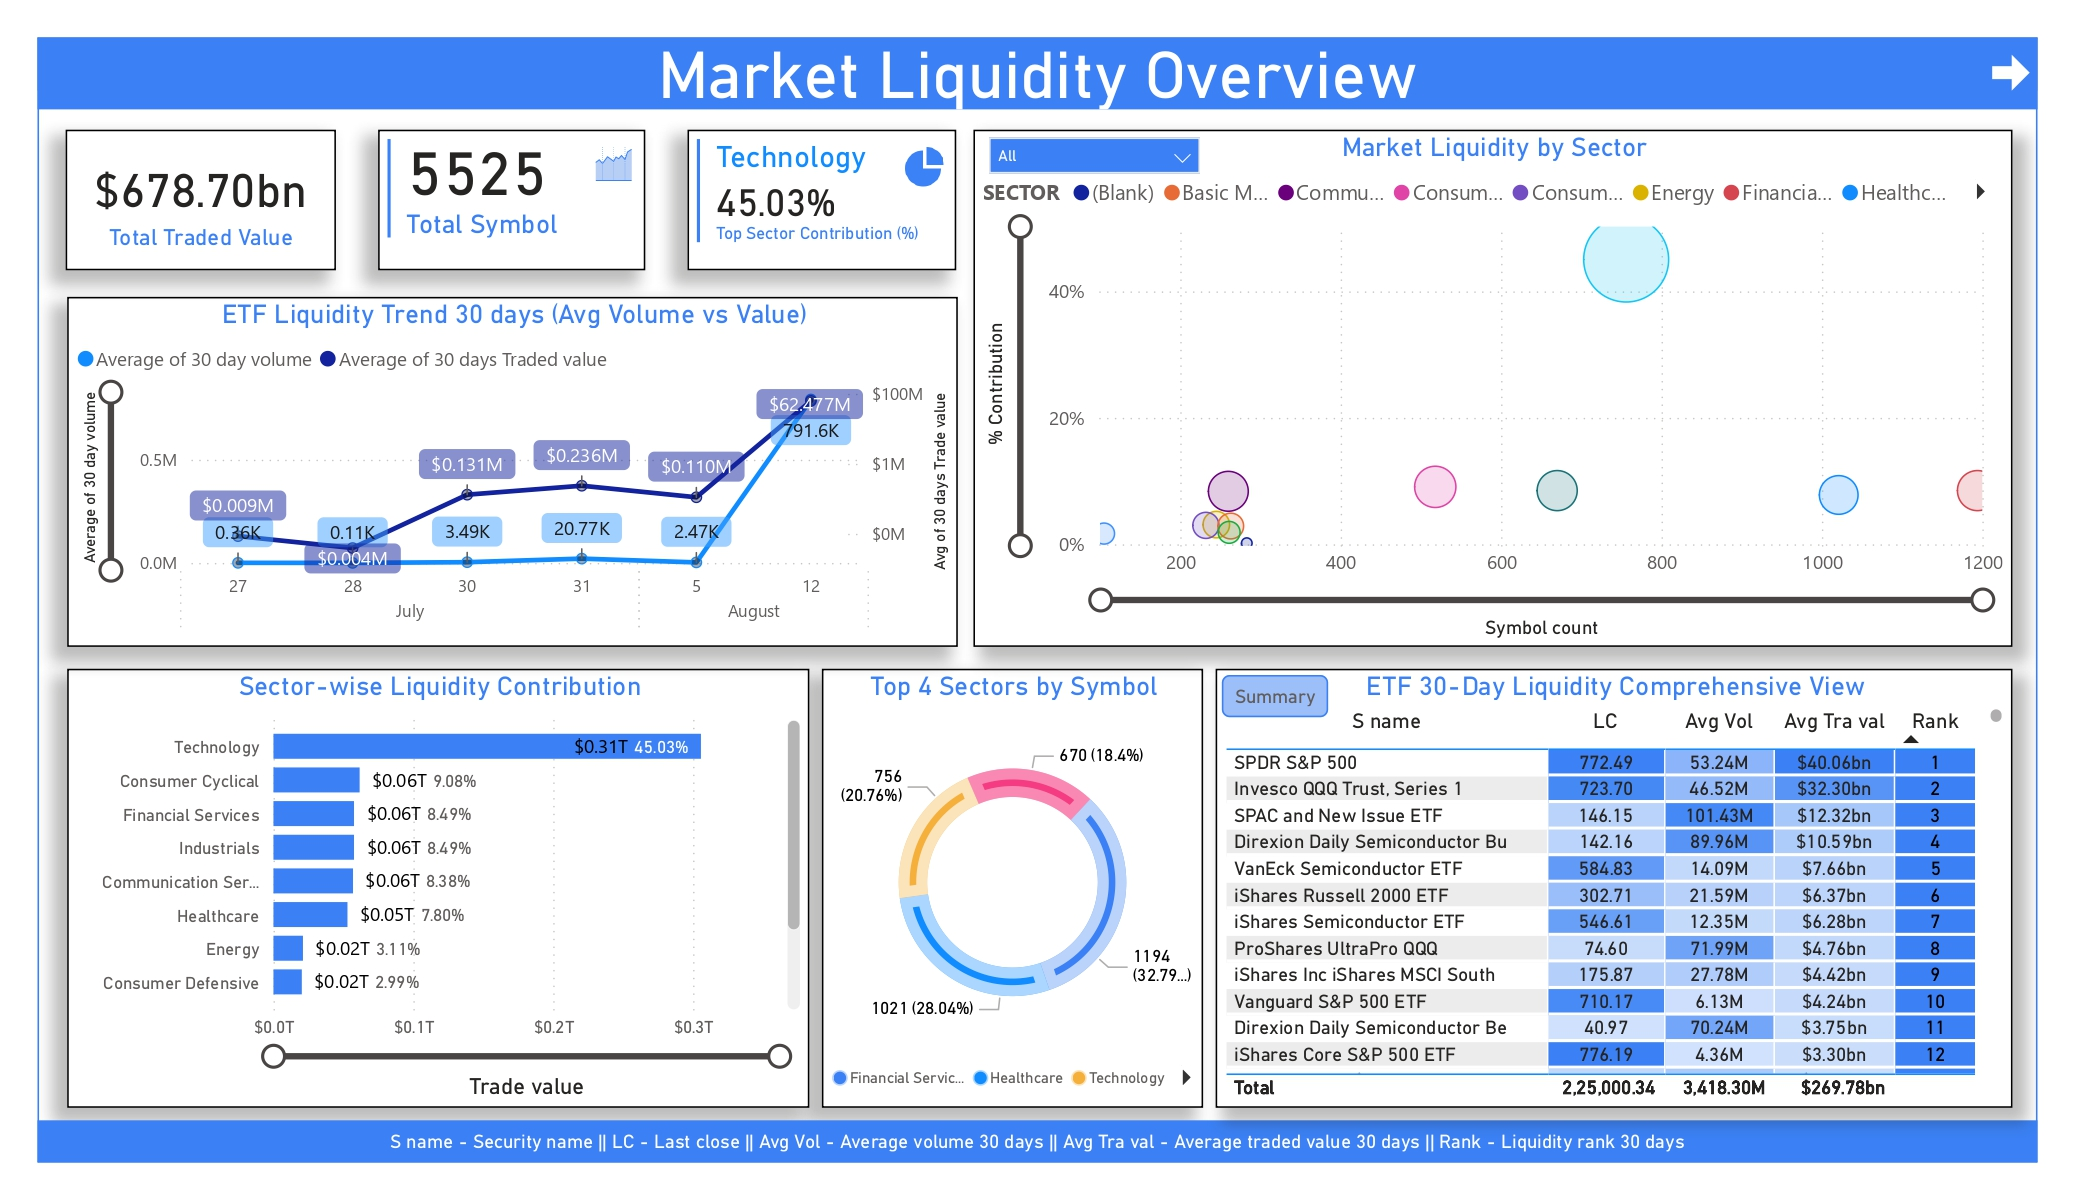

The dashboard page shown, as its layout file describes it:
{"tool":"powerbi","page":{"name":"Page 1","canvas":[1280,720],"ordinal":0},"visuals":[{"type":"shape","box":[0,0,1280,720.2],"z":0},{"type":"donutChart","title":"Top 4 Sectors by Symbol","fields":{"Category":["VW_SECTOR_LIQUIDITY_LATEST.SECTOR"],"Y":["Sum(VW_SECTOR_LIQUIDITY_LATEST.SYMBOLS_COUNT)"]},"box":[502.3,403.8,243.8,281.5],"z":1000},{"type":"clusteredBarChart","title":"Sector-wise Liquidity Contribution","fields":{"Category":["VW_SECTOR_LIQUIDITY_LATEST.SECTOR"],"Y":["Sum(VW_SECTOR_LIQUIDITY_LATEST.TRADED_VALUE)"]},"box":[18.8,403.8,475,281.2],"z":2000},{"type":"lineChart","title":"ETF Liquidity Trend 30 days (Avg Volume vs Value)","fields":{"Y":["Avg(VW_ETF_LIQUIDITY_30D_SUMMARY.AVG_VOLUME_30D)"],"Y2":["Avg(VW_ETF_LIQUIDITY_30D_SUMMARY.AVG_TRADED_VALUE_30D)"],"Category":["VW_ETF_LIQUIDITY_30D_SUMMARY.LAST_TRADE_DATE.Variation.Date Hierarchy.Month","VW_ETF_LIQUIDITY_30D_SUMMARY.LAST_TRADE_DATE.Variation.Date Hierarchy.Day"]},"box":[18.8,166.2,570,223.8],"z":3000},{"type":"scatterChart","title":"Market Liquidity by Sector","fields":{"X":["Sum(VW_SECTOR_LIQUIDITY_LATEST.SYMBOLS_COUNT)"],"Y":["Sum(VW_SECTOR_LIQUIDITY_LATEST.PCT_CONTRIBUTION)"],"Size":["Sum(VW_SECTOR_LIQUIDITY_LATEST.TRADED_VALUE)"],"Series":["VW_SECTOR_LIQUIDITY_LATEST.SECTOR"],"Category":["VW_SECTOR_LIQUIDITY_LATEST.TRADE_DATE"]},"box":[598.8,59,664.9,331.4],"z":4000},{"type":"card","fields":{"Values":["Sum(VW_SECTOR_LIQUIDITY_LATEST.TRADED_VALUE)"]},"box":[18.2,59.1,172.7,90],"z":5000},{"type":"multiRowCard","fields":{"Values":["Max(VW_SECTOR_LIQUIDITY_LATEST.PCT_CONTRIBUTION)","VW_SECTOR_LIQUIDITY_LATEST.SECTOR"]},"box":[416.4,59.1,171.8,90],"z":7000},{"type":"shape","box":[0,0,1280,45.8],"z":8000},{"type":"shape","box":[0,693.4,1280,26.4],"z":9000},{"type":"multiRowCard","fields":{"Values":["Sum(VW_SECTOR_LIQUIDITY_LATEST.SYMBOLS_COUNT)"]},"box":[217.9,59.3,171.4,90],"z":10000},{"type":"image","box":[546.9,60.6,41.2,43.8],"z":11000},{"type":"image","box":[348.2,59.1,40.9,43.2],"z":12000},{"type":"slicer","fields":{"Values":["VW_SECTOR_LIQUIDITY_LATEST.SECTOR"]},"box":[599.1,54,154.5,36.4],"z":13000},{"type":"tableEx","title":"ETF 30-Day Liquidity Comprehensive View","fields":{"Values":["VW_ETF_LIQUIDITY_30D_SUMMARY.SECURITY_NAME","Sum(VW_ETF_LIQUIDITY_30D_SUMMARY.LAST_CLOSE)","Sum(VW_ETF_LIQUIDITY_30D_SUMMARY.AVG_VOLUME_30D)","Sum(VW_ETF_LIQUIDITY_30D_SUMMARY.AVG_TRADED_VALUE_30D)","VW_ETF_LIQUIDITY_30D_SUMMARY.LIQUIDITY_RANK_30D"]},"box":[753.6,403.6,510,280.9],"z":14000},{"type":"actionButton","title":"Summary","box":[757.7,407.7,68.5,26.9],"z":16000},{"type":"shape","box":[1250.9,10.9,24.5,22.7],"z":18000}]}

Visuals, with their boxes on the page's 1280x720 design canvas (x1, y1, x2, y2). These are canvas units, not pixel positions in the 2075x1200 screenshot, which may show the page scaled, cropped or inside an application window:
shape: select_region(0, 0, 1280, 720)
"Top 4 Sectors by Symbol" donutChart: select_region(502, 404, 746, 685)
"Sector-wise Liquidity Contribution" clusteredBarChart: select_region(19, 404, 494, 685)
"ETF Liquidity Trend 30 days (Avg Volume vs Value)" lineChart: select_region(19, 166, 589, 390)
"Market Liquidity by Sector" scatterChart: select_region(599, 59, 1264, 390)
card - Sum(VW_SECTOR_LIQUIDITY_LATEST.TRADED_VALUE): select_region(18, 59, 191, 149)
multiRowCard - Max(VW_SECTOR_LIQUIDITY_LATEST.PCT_CONTRIBUTION) x VW_SECTOR_LIQUIDITY_LATEST.SECTOR: select_region(416, 59, 588, 149)
shape: select_region(0, 0, 1280, 46)
shape: select_region(0, 693, 1280, 720)
multiRowCard - Sum(VW_SECTOR_LIQUIDITY_LATEST.SYMBOLS_COUNT): select_region(218, 59, 389, 149)
image: select_region(547, 61, 588, 104)
image: select_region(348, 59, 389, 102)
slicer - VW_SECTOR_LIQUIDITY_LATEST.SECTOR: select_region(599, 54, 754, 90)
"ETF 30-Day Liquidity Comprehensive View" tableEx: select_region(754, 404, 1264, 684)
"Summary" actionButton: select_region(758, 408, 826, 435)
shape: select_region(1251, 11, 1275, 34)
